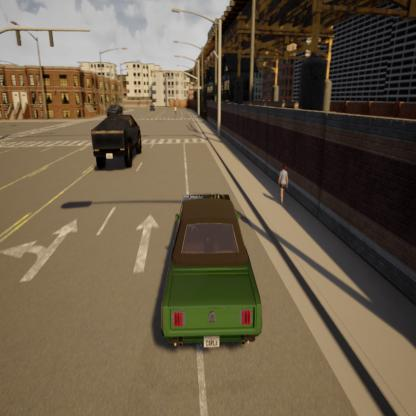Cars: (154, 172, 268, 387), (82, 103, 146, 191), (103, 87, 131, 126)
Pedestrian: (273, 152, 300, 230)
